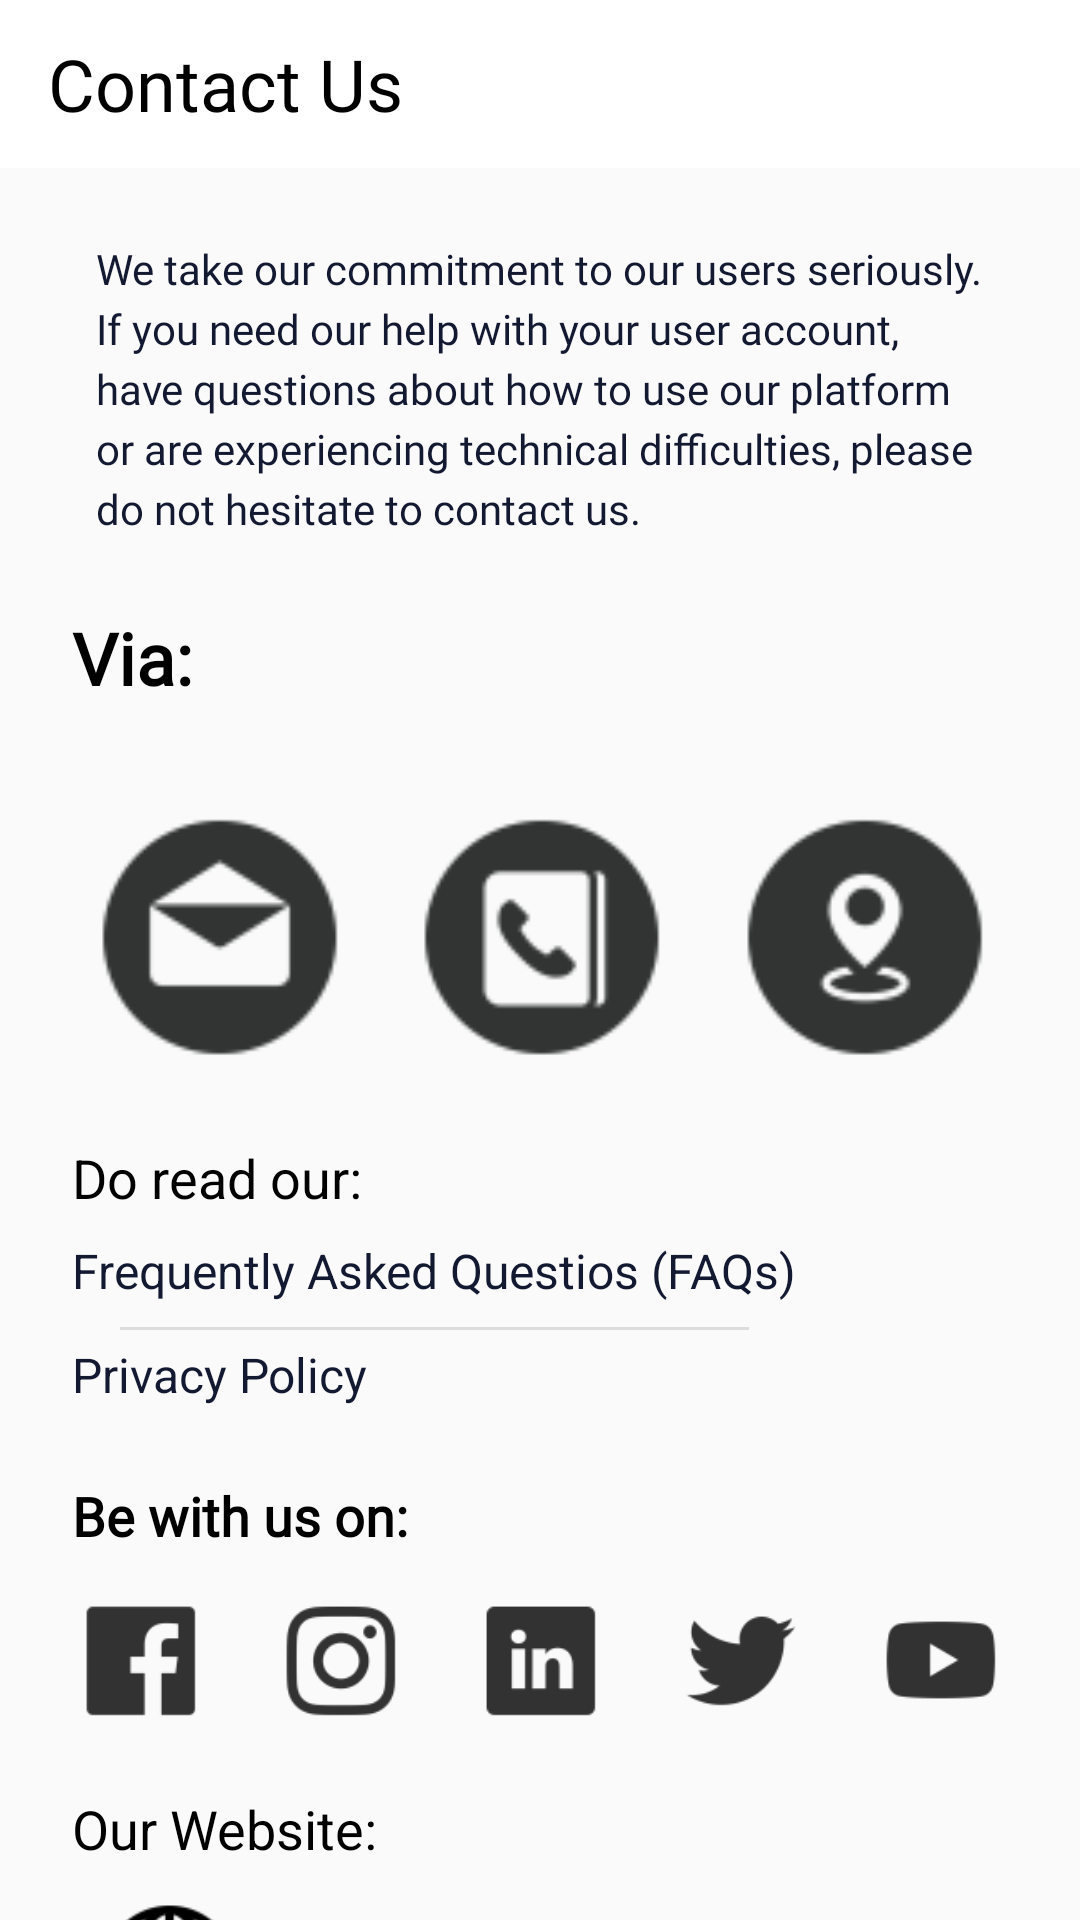

Screen size 1080 x 1920. Icon name, then its box in pixels as (x1, y1, x2, y2):
location: (747, 819, 983, 1055)
mail: (102, 819, 338, 1055)
phone book: (424, 819, 660, 1055)
